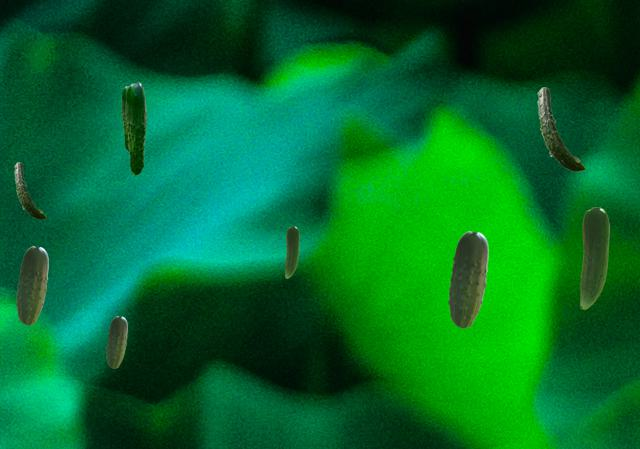cucumber: (537, 87, 584, 170), (448, 231, 487, 327), (580, 207, 608, 308), (16, 246, 47, 324), (125, 82, 146, 174), (14, 162, 45, 218), (106, 316, 126, 367), (285, 226, 298, 277), (121, 85, 128, 150)
